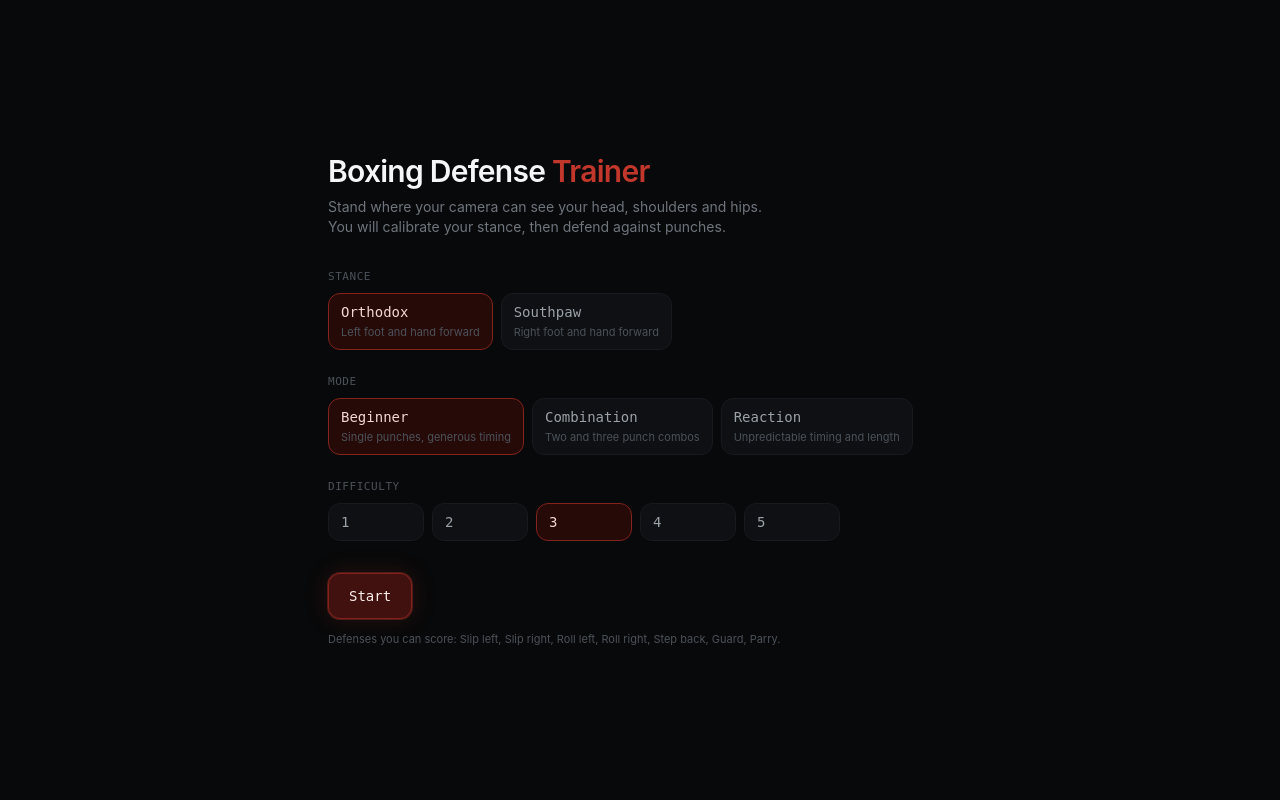
the screen flow › shows the boxer, the HUD and the camera on the training screen
Click the button "Start" at (370, 596), box [328,573,412,619]
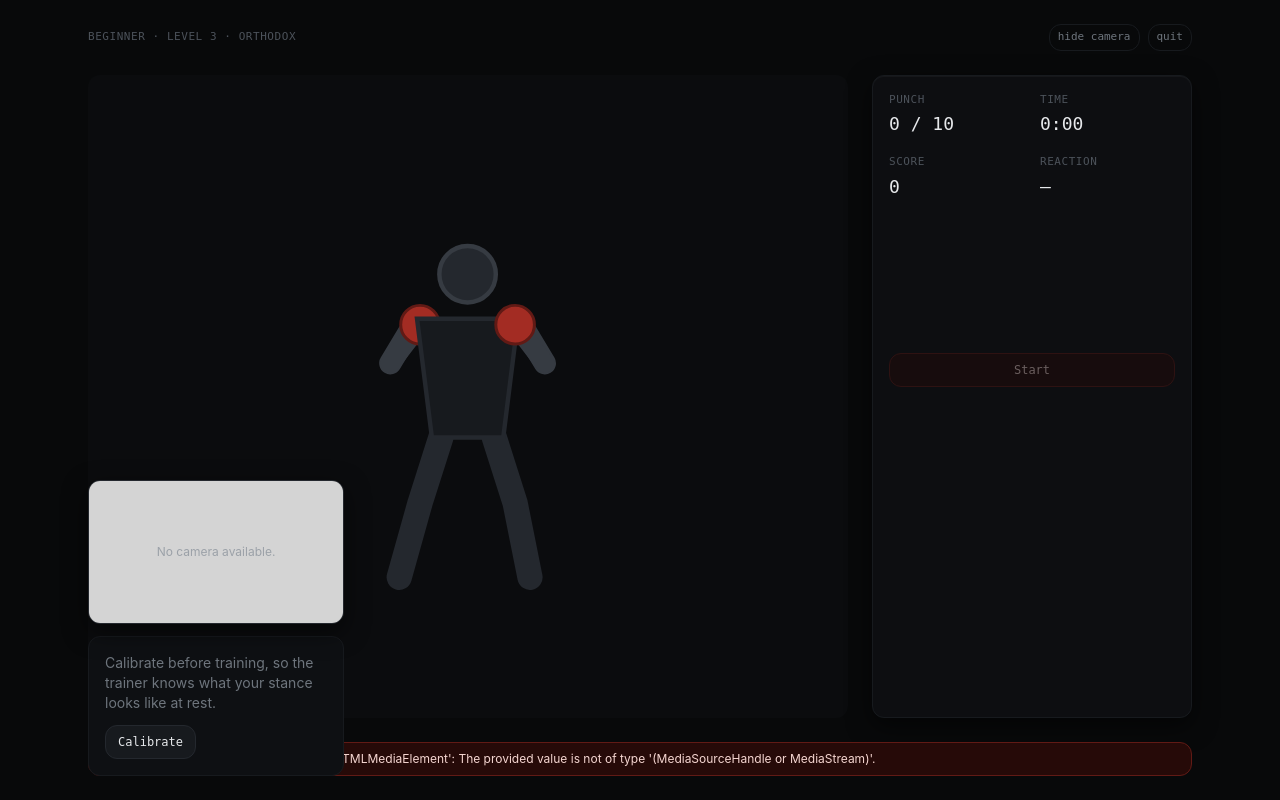
Expected: the element with test id "training-hud" is shown, [872,74,1192,718]
Expected: the picture with test id "boxer" is shown, [319,188,616,604]
Expected: the element with test id "calibration-panel" is shown, [88,636,344,776]
